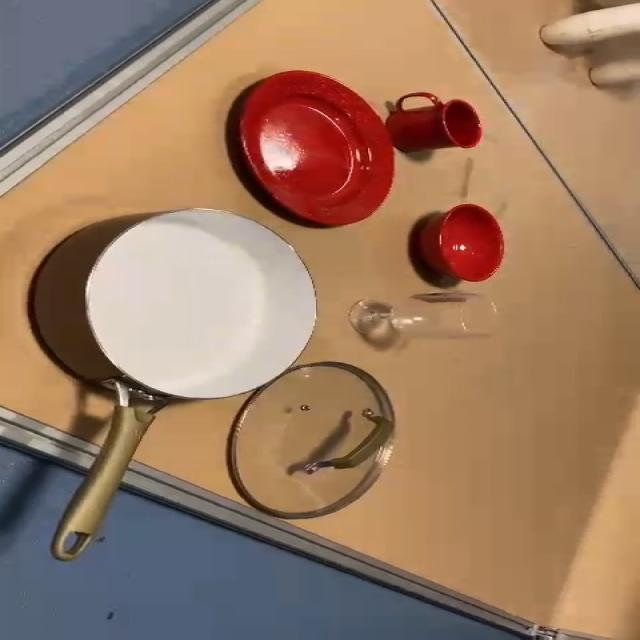Bowl: (423, 200, 500, 288)
Glass: (342, 292, 505, 346)
Plate: (235, 55, 402, 224)
cup: (390, 92, 492, 167)
pot: (13, 207, 294, 556)
